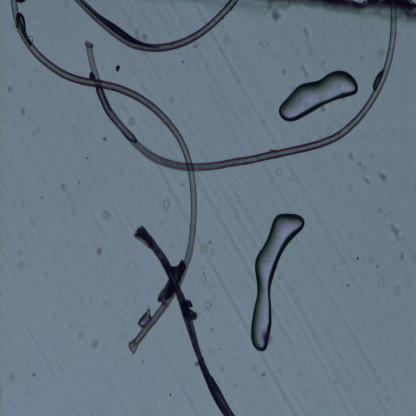Air bubble: (250, 214, 306, 352), (277, 67, 357, 124)
Background material: (14, 246, 36, 275), (60, 179, 76, 214), (224, 194, 239, 224), (300, 27, 316, 55), (362, 153, 372, 188), (276, 59, 289, 79), (124, 113, 137, 132), (256, 36, 268, 53), (391, 222, 401, 242), (336, 254, 352, 266), (15, 104, 28, 118), (300, 62, 310, 79), (198, 242, 209, 255), (377, 170, 388, 183), (90, 336, 100, 350), (258, 368, 268, 381), (162, 197, 171, 211), (101, 209, 111, 221), (78, 327, 85, 342), (350, 149, 356, 166), (400, 247, 407, 261), (100, 134, 109, 144), (100, 298, 108, 309), (205, 300, 212, 312), (396, 286, 402, 300), (314, 280, 324, 288), (114, 63, 121, 73), (96, 246, 102, 256), (356, 252, 360, 263), (345, 283, 351, 289), (381, 282, 384, 288)
Cotton: (133, 224, 235, 416)
Edge of slide: (264, 0, 416, 20)
Microfibre: (10, 0, 198, 354), (83, 0, 416, 174), (74, 0, 238, 52)
